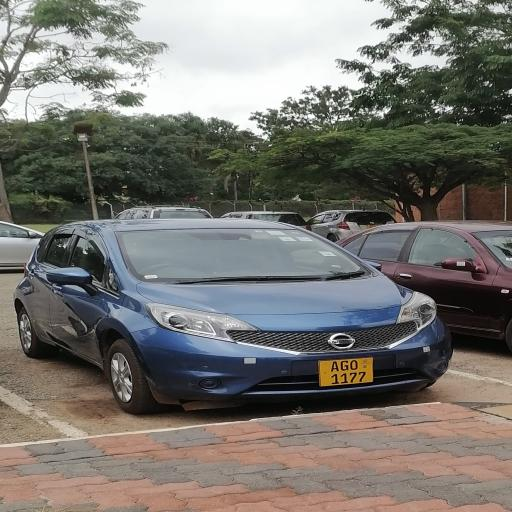number-plates: (321, 355, 376, 388)
